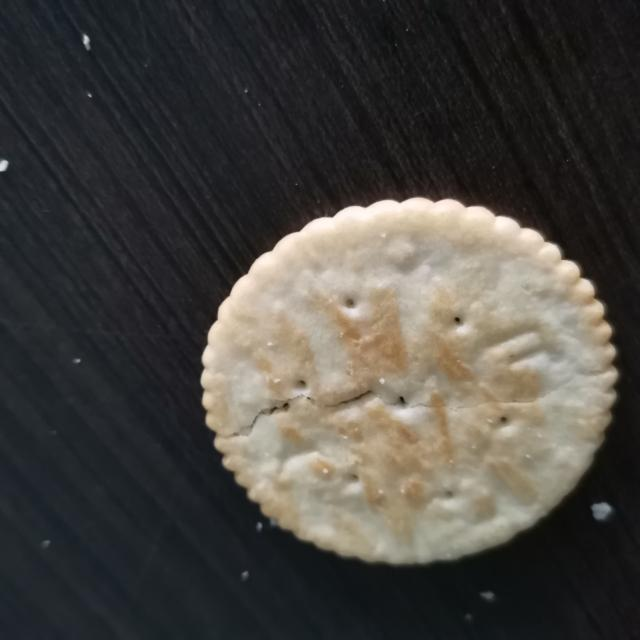Fracture: (213, 363, 607, 459)
